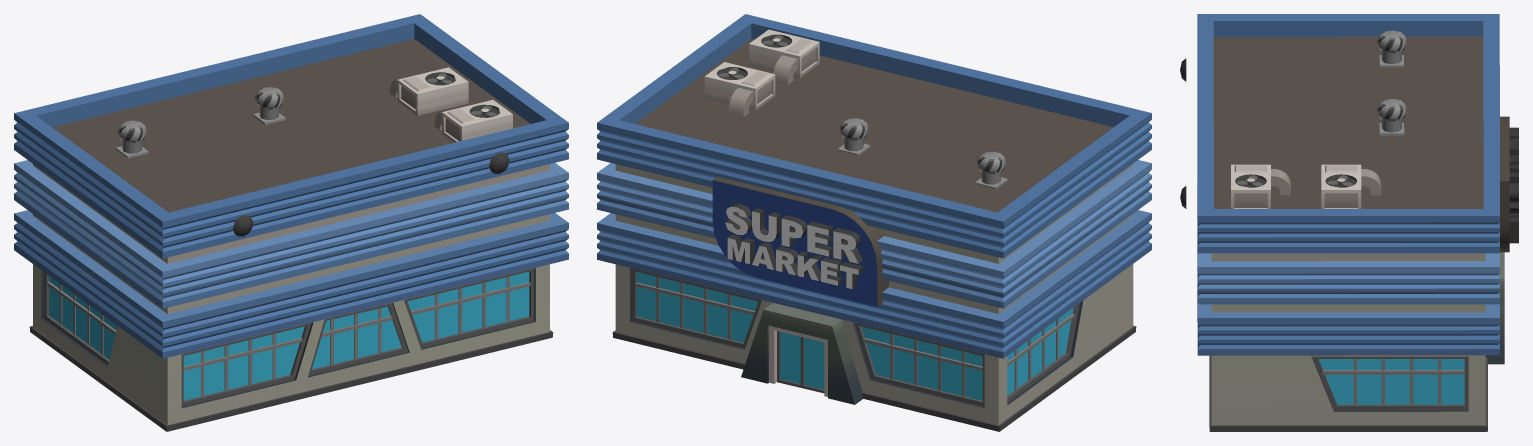
Rendered from Supermarket.fbx.
3 views of the same model, side by side, from view 1: azimuth 30°, elevation 25°; view 2: azimuth 150°, elevation 25°; view 3: azimuth 270°, elevation 25° (orthographic).
Parts seen in each view (by area): view 1: Supermarket; view 2: Supermarket; view 3: Supermarket.
Part boxes in pixels (<box>): Supermarket: <box>14,14,568,431</box>; Supermarket: <box>597,14,1151,431</box>; Supermarket: <box>1180,14,1518,431</box>.
Size of the model in its own units: 874 by 470 by 620.
